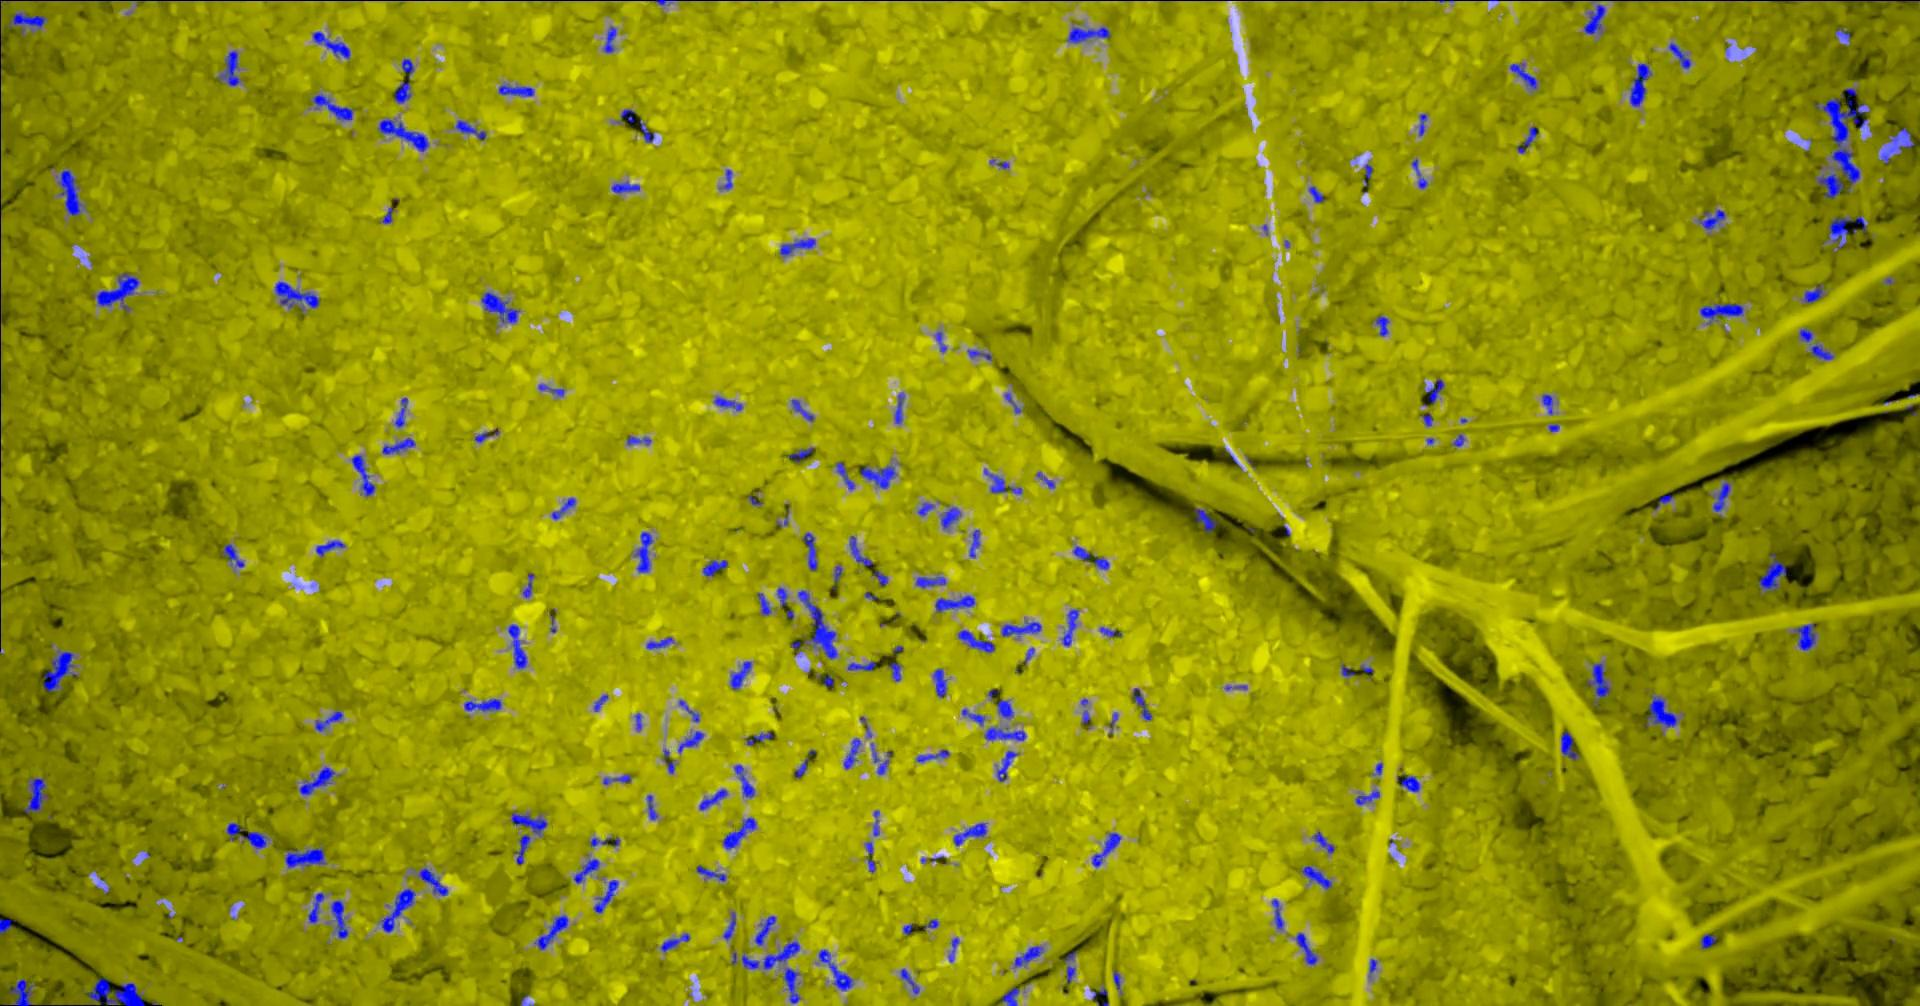ant: (790, 589, 837, 658), (91, 272, 138, 311), (377, 118, 428, 151), (742, 940, 799, 969), (84, 978, 143, 1005), (380, 888, 415, 932), (42, 650, 76, 691), (818, 949, 852, 989), (1829, 215, 1865, 250), (1881, 126, 1914, 163), (480, 291, 518, 323), (274, 281, 319, 307), (535, 915, 568, 949), (620, 109, 653, 142), (1757, 553, 1785, 591), (1644, 695, 1677, 727), (723, 817, 756, 848), (58, 169, 81, 215), (312, 30, 349, 58), (1091, 832, 1120, 866), (312, 94, 352, 119), (350, 455, 375, 495), (983, 467, 1021, 493), (298, 767, 334, 794), (1629, 64, 1651, 105), (1699, 304, 1743, 324), (507, 622, 526, 668), (1585, 663, 1610, 697), (593, 879, 618, 913), (394, 58, 413, 103), (858, 465, 895, 488), (1072, 546, 1109, 569), (957, 629, 994, 652), (284, 847, 325, 868), (418, 868, 447, 895), (510, 812, 546, 835), (1065, 25, 1110, 43), (23, 779, 46, 812), (952, 822, 985, 845), (850, 535, 872, 567), (218, 50, 239, 85), (634, 531, 651, 572), (733, 763, 754, 796), (8, 978, 34, 1005), (1509, 64, 1537, 89), (778, 238, 815, 257), (8, 11, 47, 29), (935, 594, 974, 612), (996, 749, 1017, 781), (1295, 932, 1317, 964), (573, 857, 599, 883), (1302, 865, 1331, 888), (1583, 4, 1605, 34), (870, 743, 891, 774), (1817, 173, 1843, 198), (1192, 507, 1217, 533), (698, 788, 728, 809), (782, 967, 799, 1005), (1001, 621, 1041, 636), (754, 915, 775, 945), (1062, 608, 1078, 645), (330, 901, 347, 937), (1131, 687, 1150, 719), (1015, 945, 1043, 967), (455, 119, 485, 138), (1669, 42, 1690, 69), (677, 730, 703, 752), (1794, 622, 1815, 650), (730, 661, 750, 688), (984, 727, 1025, 741), (1559, 730, 1578, 760), (551, 497, 575, 520), (221, 542, 244, 567), (382, 437, 415, 453), (1517, 126, 1538, 152), (836, 461, 855, 489), (803, 532, 817, 570), (1312, 831, 1335, 854), (1712, 481, 1730, 511), (696, 864, 725, 882), (660, 934, 690, 951), (1698, 210, 1724, 229), (315, 711, 342, 730), (900, 968, 919, 995), (1411, 158, 1427, 188), (843, 738, 860, 768), (307, 892, 324, 922), (463, 699, 502, 711), (315, 540, 344, 556), (498, 84, 535, 97), (791, 399, 813, 420), (940, 506, 960, 528), (678, 699, 698, 721), (514, 835, 530, 864), (1425, 379, 1443, 403), (241, 831, 265, 848), (702, 559, 728, 575), (916, 749, 949, 762), (394, 398, 408, 427), (1810, 342, 1832, 359), (714, 396, 742, 410), (745, 730, 773, 744), (961, 708, 984, 724), (933, 668, 946, 697), (789, 447, 813, 462), (1803, 283, 1822, 302), (863, 841, 875, 873), (1397, 775, 1418, 791), (723, 911, 735, 939), (1271, 898, 1283, 929), (602, 25, 615, 52), (996, 699, 1013, 718), (999, 987, 1018, 1005), (1355, 790, 1379, 804), (916, 575, 945, 587), (611, 180, 639, 192), (894, 392, 904, 423), (538, 384, 563, 396), (474, 429, 498, 442), (969, 528, 979, 558), (1036, 471, 1054, 488), (1655, 493, 1672, 509), (226, 822, 243, 840), (757, 592, 770, 615), (646, 636, 672, 648), (792, 758, 808, 777), (602, 774, 630, 784), (590, 836, 618, 846), (522, 573, 533, 597), (663, 749, 674, 774), (1375, 315, 1388, 337), (1308, 185, 1324, 202), (719, 169, 731, 189), (888, 661, 900, 681), (646, 794, 657, 819), (847, 661, 875, 669), (593, 694, 607, 711), (626, 434, 650, 445), (968, 349, 990, 359), (872, 570, 888, 586), (1098, 626, 1121, 636), (1798, 328, 1812, 344), (935, 332, 946, 351), (949, 937, 957, 962), (1700, 934, 1716, 948), (917, 502, 933, 514), (1542, 394, 1552, 414), (1363, 163, 1371, 185), (381, 206, 392, 224), (776, 587, 787, 605), (1065, 965, 1076, 983), (0, 918, 11, 934), (1418, 113, 1426, 135), (872, 810, 879, 835)
